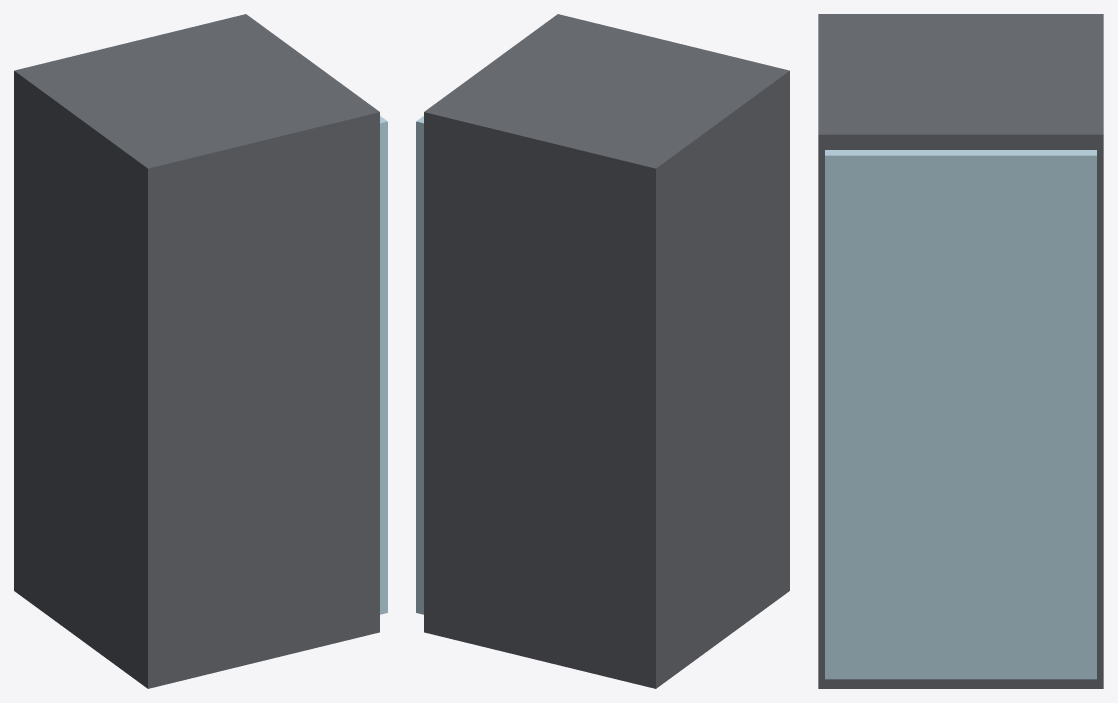
The model's file is gaming-pc.glb.
The picture shows the model from 3 angles, left to right: view 1: azimuth 30°, elevation 25°; view 2: azimuth 150°, elevation 25°; view 3: azimuth 270°, elevation 25°; orthographic projection. The views are drawn at different scales.
Parts seen in each view (by area): view 1: Case, SidePanel; view 2: Case, SidePanel; view 3: SidePanel, Case.
Part boxes in pixels (x1,y1,x2,y2): Case: (14, 14, 379, 688); SidePanel: (380, 116, 387, 614); Case: (424, 14, 789, 688); SidePanel: (416, 116, 423, 614); SidePanel: (825, 150, 1096, 679); Case: (818, 14, 1103, 688).
Bounding box in the file's own units: 0.88 × 1.8 × 0.84.
